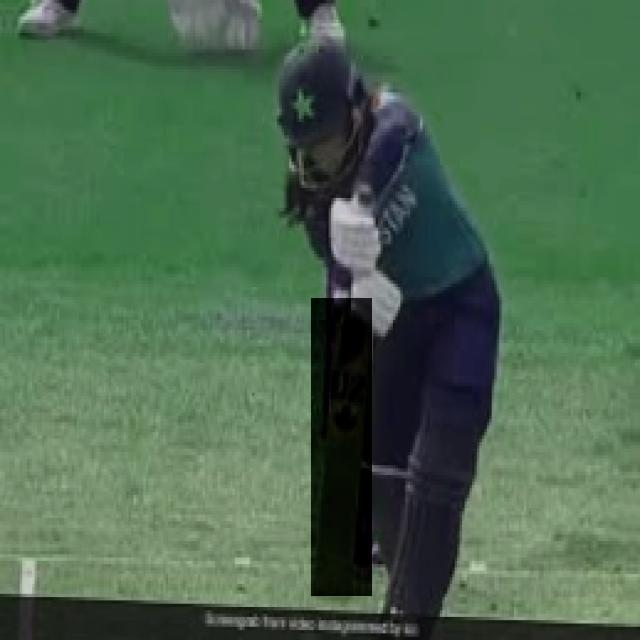bat: (313, 301, 371, 597)
toe: (306, 581, 379, 601)
